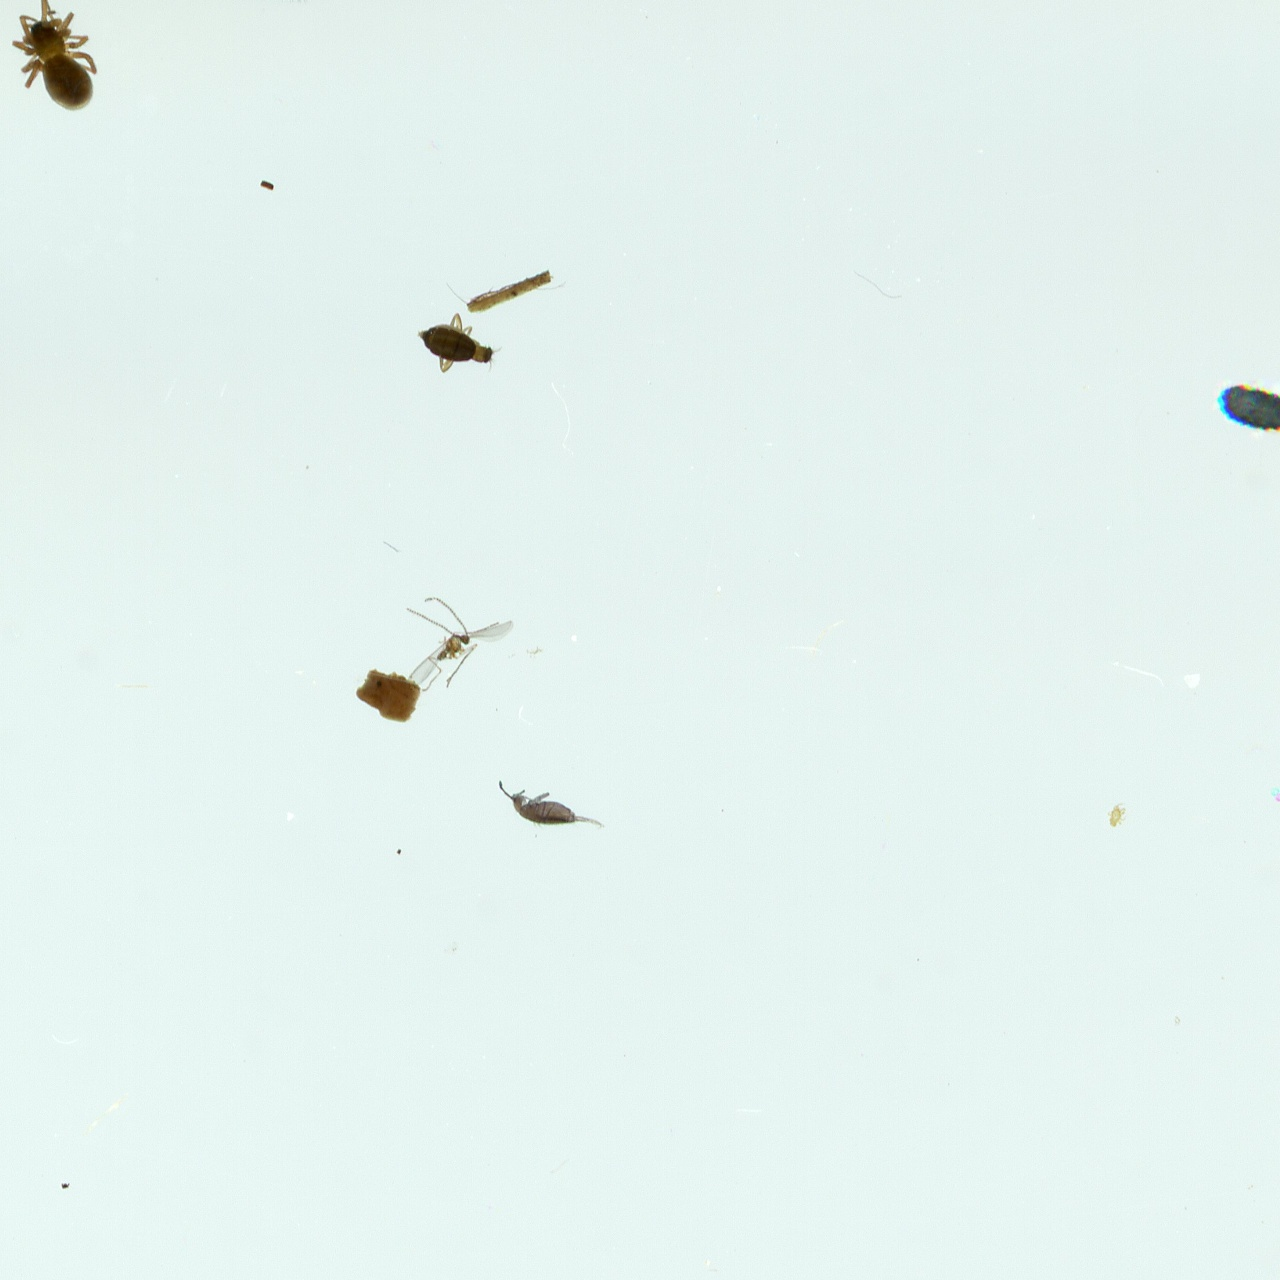arthropod: (400, 594, 515, 694), (13, 0, 97, 111), (496, 776, 604, 828), (417, 313, 501, 375), (1218, 382, 1280, 437), (1107, 803, 1128, 829)
